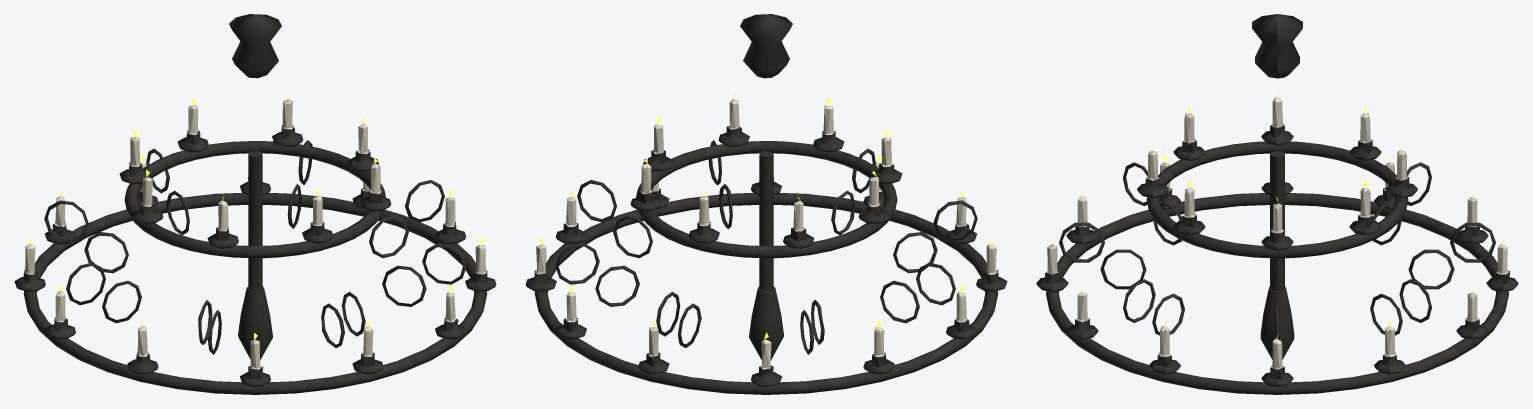
The model's file is iron_chandelier_lod1.glb.
3 renders of one model, left to right at view 1: azimuth 30°, elevation 25°; view 2: azimuth 150°, elevation 25°; view 3: azimuth 270°, elevation 25°, orthographic.
Visible parts, largest first — view 1: iron_chandelier; view 2: iron_chandelier; view 3: iron_chandelier.
Part boxes in pixels (box(x1,y1,x2,y2)): iron_chandelier: box(14, 14, 496, 394); iron_chandelier: box(525, 14, 1007, 394); iron_chandelier: box(1036, 14, 1518, 394).
Size of the model in its own units: 1.63 by 1.32 by 1.63.
1 material, 1 textured.
